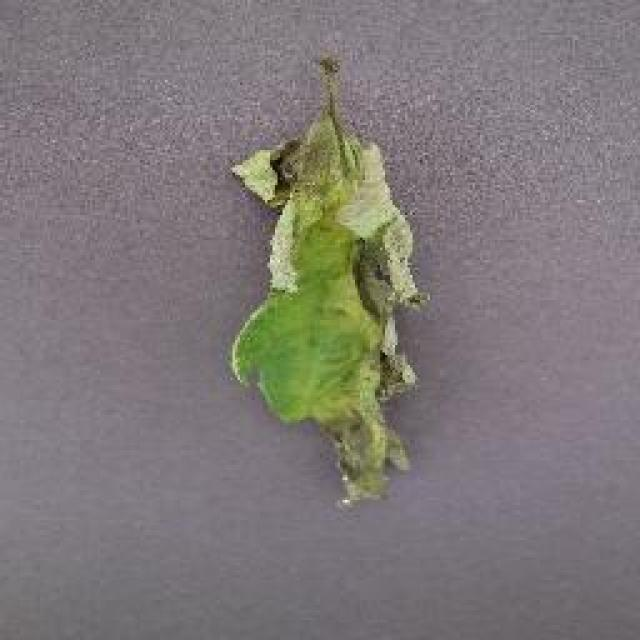Tomato late blight leaf: (226, 52, 427, 510)
